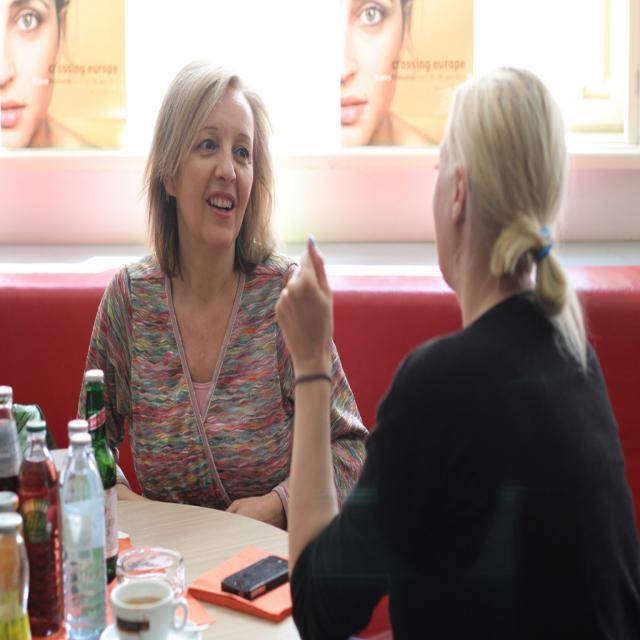Coffee: (124, 595, 165, 606)
Tea: (122, 596, 160, 606)
